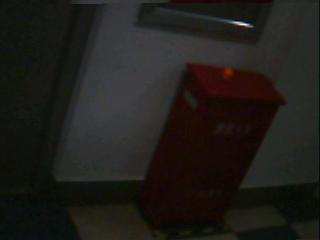oball: (223, 67, 233, 77)
